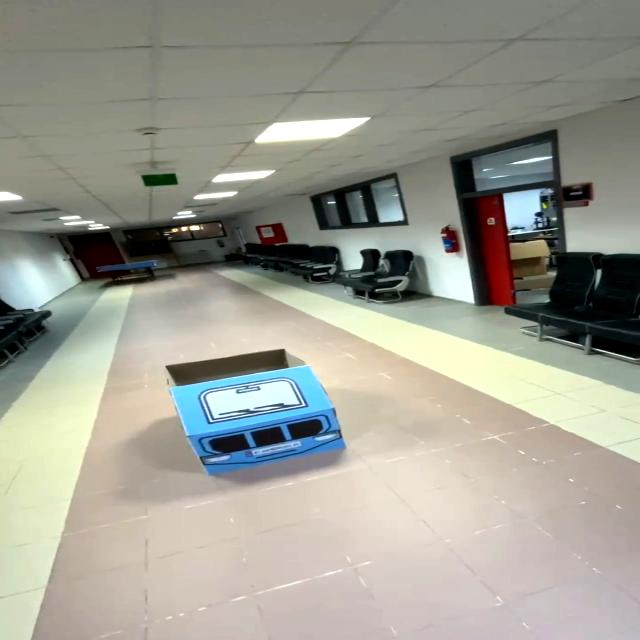blue_car: (153, 334, 370, 483)
